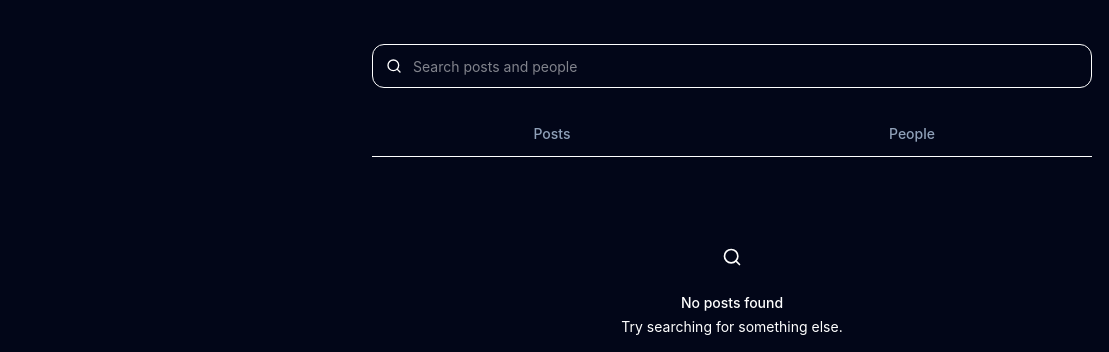
Test: SearchPage › starts a conversation and navigates to its encoded route
The image size is (1109, 352).
What coordinates should you click on to do the following:
click the button "People"
I would click on:
 (912, 134)
Its box is [732,112,1092,156].
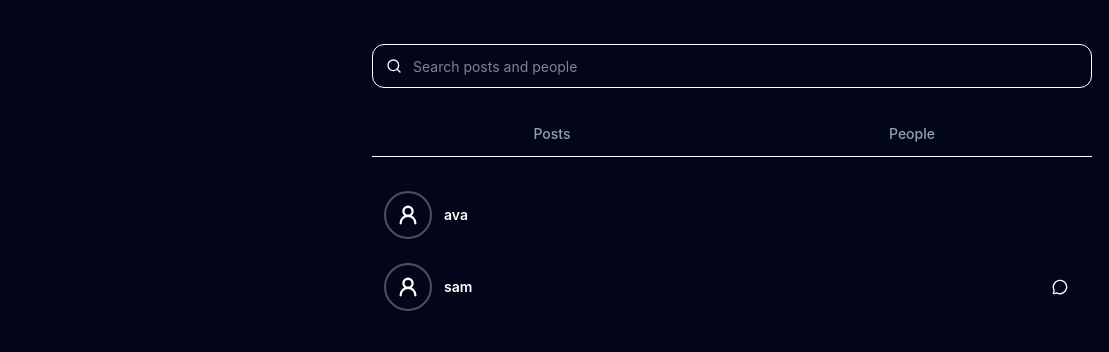
What coordinates should you click on to do the following:
click the button named "Message sam"
I would click on:
 (1060, 287)
Its box is [1040,267,1080,307].
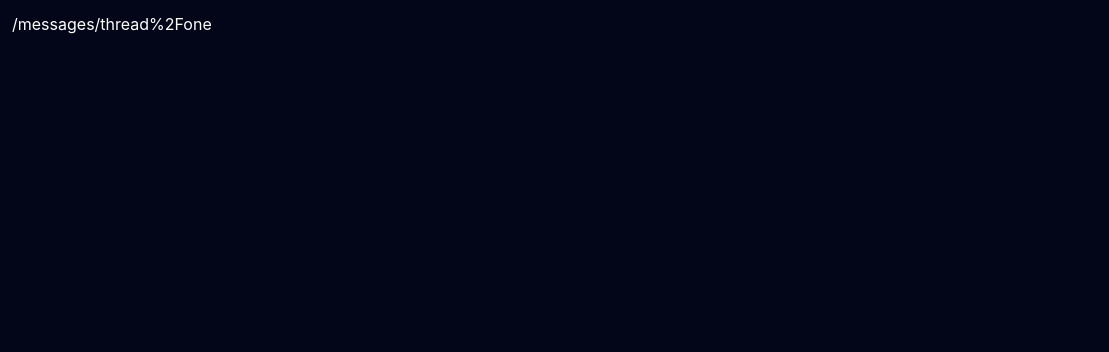
Check: the text with test id "location" reads "/messages/thread%2Fone", box [12,14,212,34]
